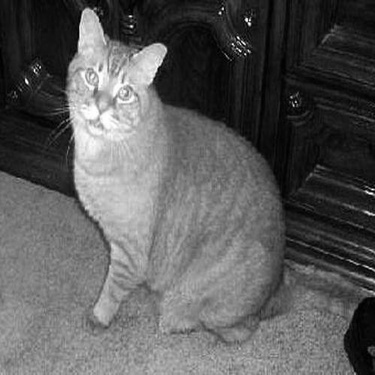cat: (54, 4, 301, 352)
